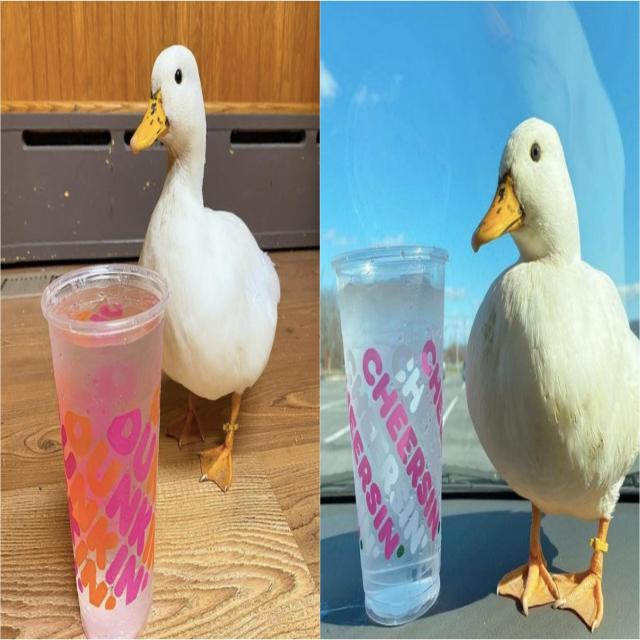Duck: (455, 97, 640, 619), (121, 39, 287, 485)
